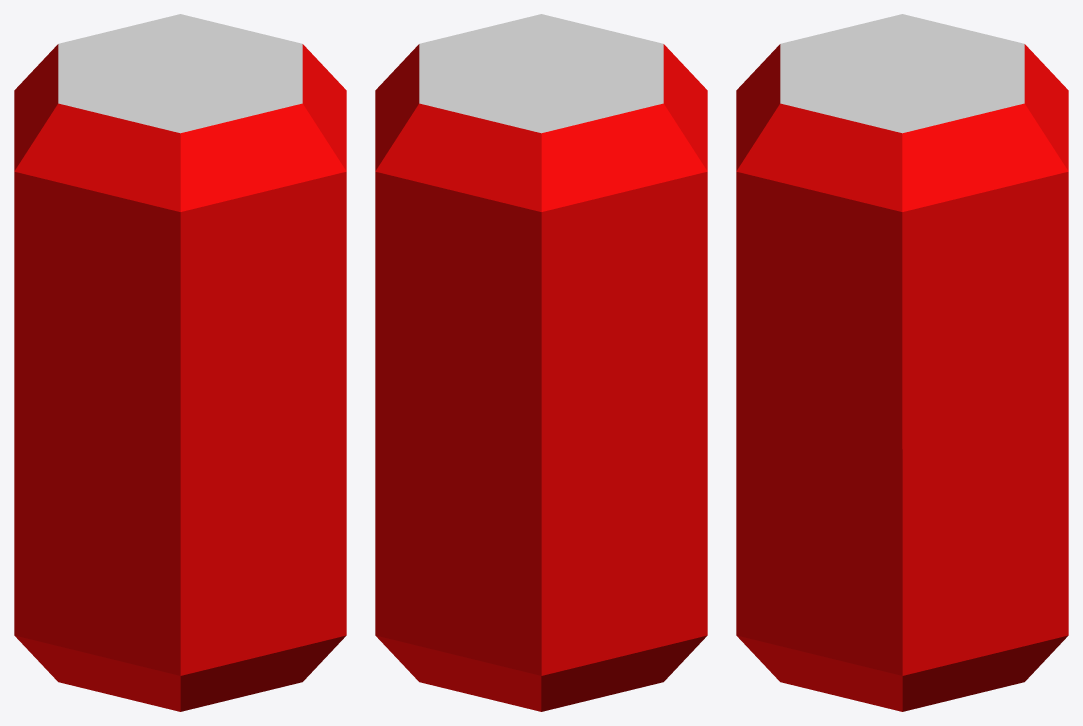
File: can.fbx
3 views of the same model, side by side, from view 1: azimuth 30°, elevation 25°; view 2: azimuth 150°, elevation 25°; view 3: azimuth 270°, elevation 25° (orthographic).
Visible parts, largest first — view 1: can; view 2: can; view 3: can.
Part boxes in pixels (x1,y1,x2,y2): can: (14,14,346,711); can: (375,14,707,711); can: (736,14,1068,711).
Bounding box in the file's own units: 15.57 × 25.91 × 13.49.
1 material, 1 textured.
